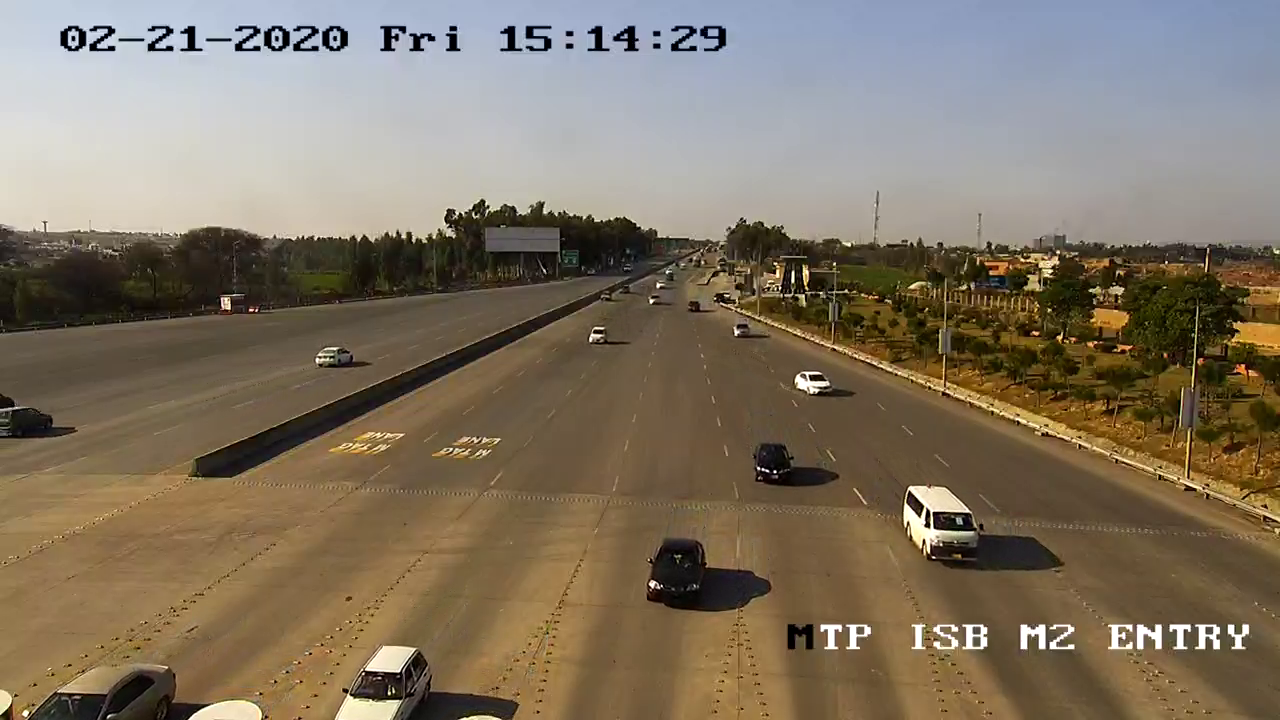f1: (639, 530, 718, 616), (748, 433, 803, 494)
f2: (895, 477, 995, 576)
